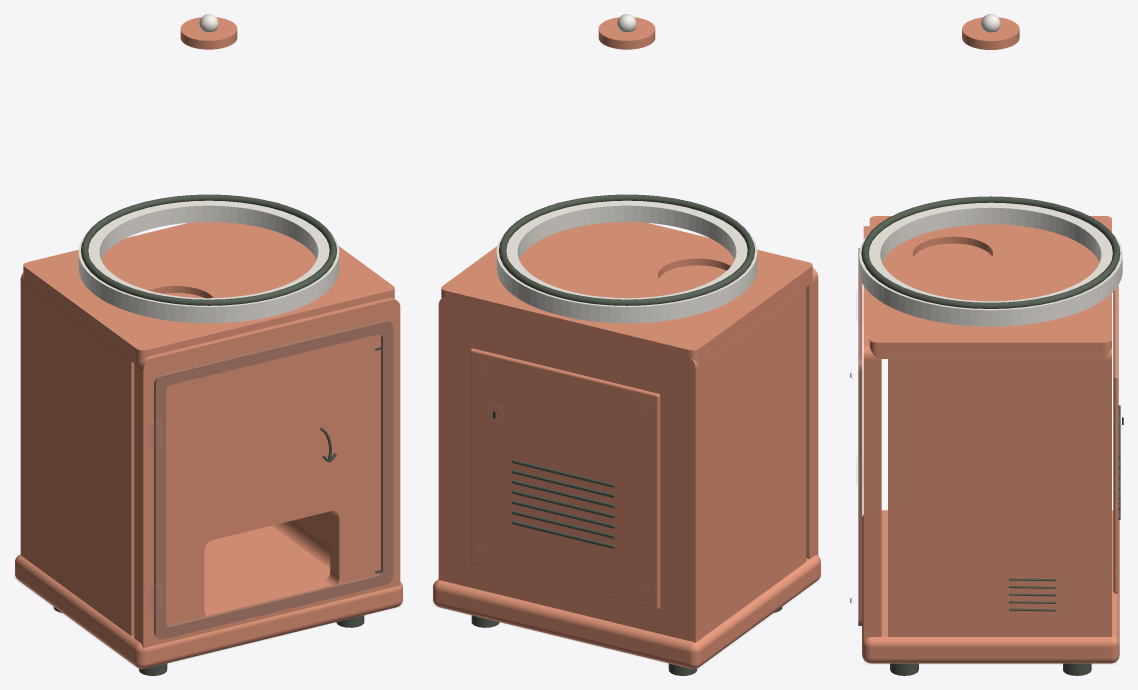
The model's file is machine-friends-study.prefab.glb.
The picture shows the model from 3 angles, left to right: view 1: azimuth 30°, elevation 25°; view 2: azimuth 150°, elevation 25°; view 3: azimuth 270°, elevation 25°; orthographic projection.
Visible parts, largest first — view 1: CabinetShell_Batch0; view 2: CabinetShell_Batch0; view 3: CabinetShell_Batch0.
Boxes of the visible parts, x1=… form: CabinetShell_Batch0: x1=15, y1=14, x2=402, y2=675; CabinetShell_Batch0: x1=433, y1=14, x2=820, y2=675; CabinetShell_Batch0: x1=850, y1=14, x2=1123, y2=675.
Size of what is drawn, in the model's own units: 0.206 by 0.4415 by 0.1805.
Materials: 2 (2 with a texture image).
